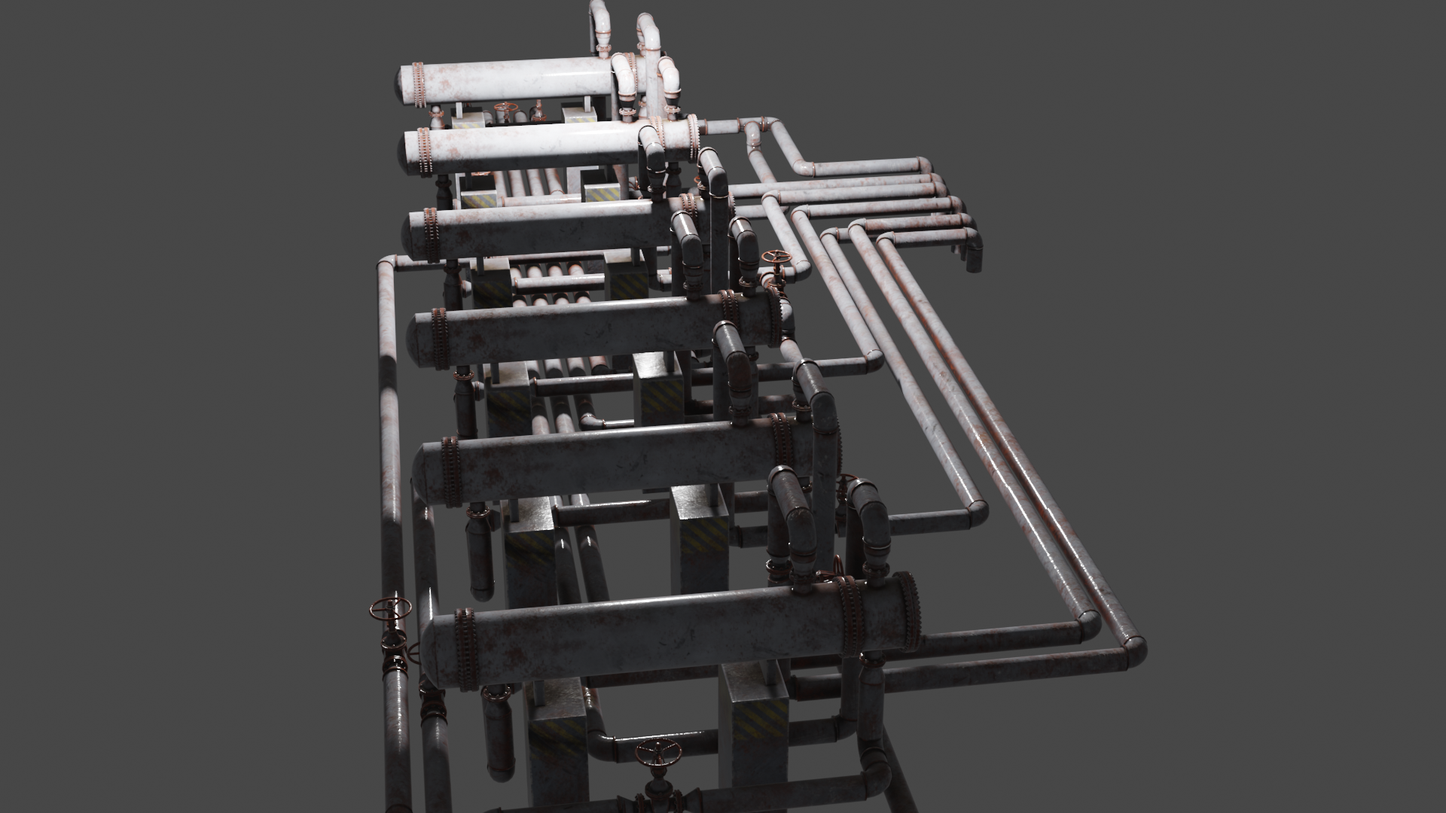HE_1: (411, 574, 930, 691)
HE_2: (405, 412, 807, 509)
HE_3: (402, 279, 789, 372)
HE_4: (390, 185, 738, 259)
HE_5: (390, 116, 704, 178)
HE_6: (391, 53, 619, 104)
